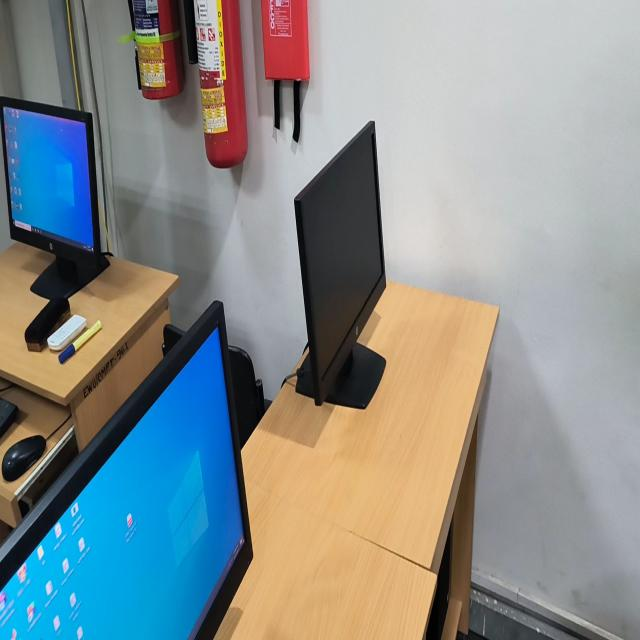Chair: (230, 346, 266, 447), (163, 325, 180, 353)
Cpu: (426, 524, 452, 639)
Fire Extinguisher: (193, 0, 247, 168), (128, 0, 184, 100)
Keyboard: (0, 398, 18, 437)
Monitor: (294, 121, 386, 406), (0, 97, 107, 299)
Mouse: (2, 435, 46, 481)
